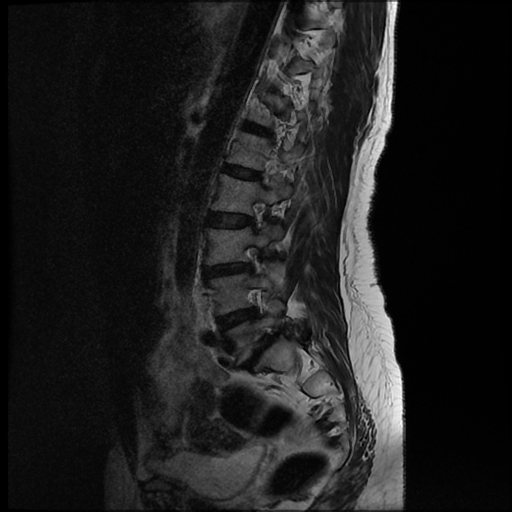LFS0: (234, 194, 281, 242), (234, 241, 279, 284)
